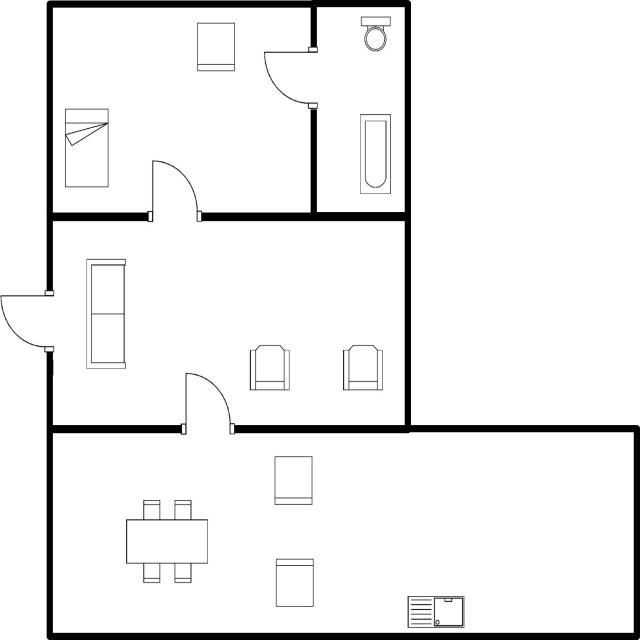armchair: (245, 339, 293, 395), (338, 339, 386, 394)
bed: (60, 104, 113, 192)
dining_table: (120, 495, 211, 586)
large_sink: (355, 12, 393, 53)
large_sofa: (82, 253, 131, 373)
sink: (403, 590, 467, 630)
small_sofa: (269, 452, 317, 509), (192, 18, 238, 76), (270, 555, 319, 609)
tub: (355, 109, 394, 198)
